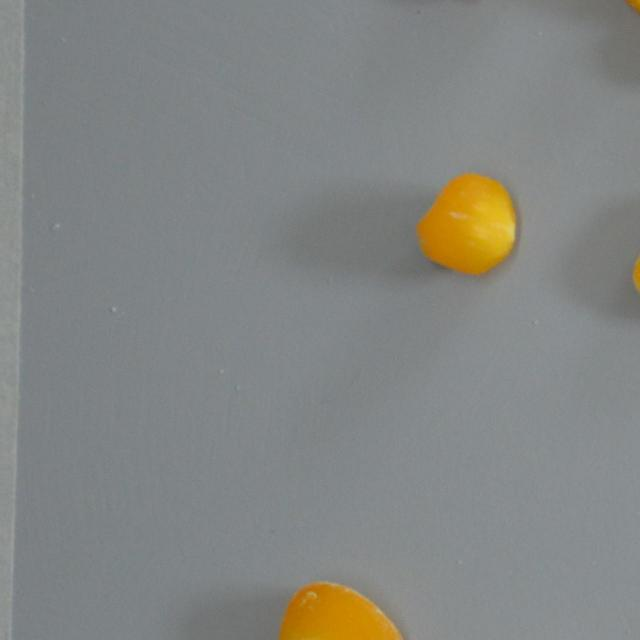no_canjicado: (418, 177, 514, 278), (276, 579, 406, 640)
